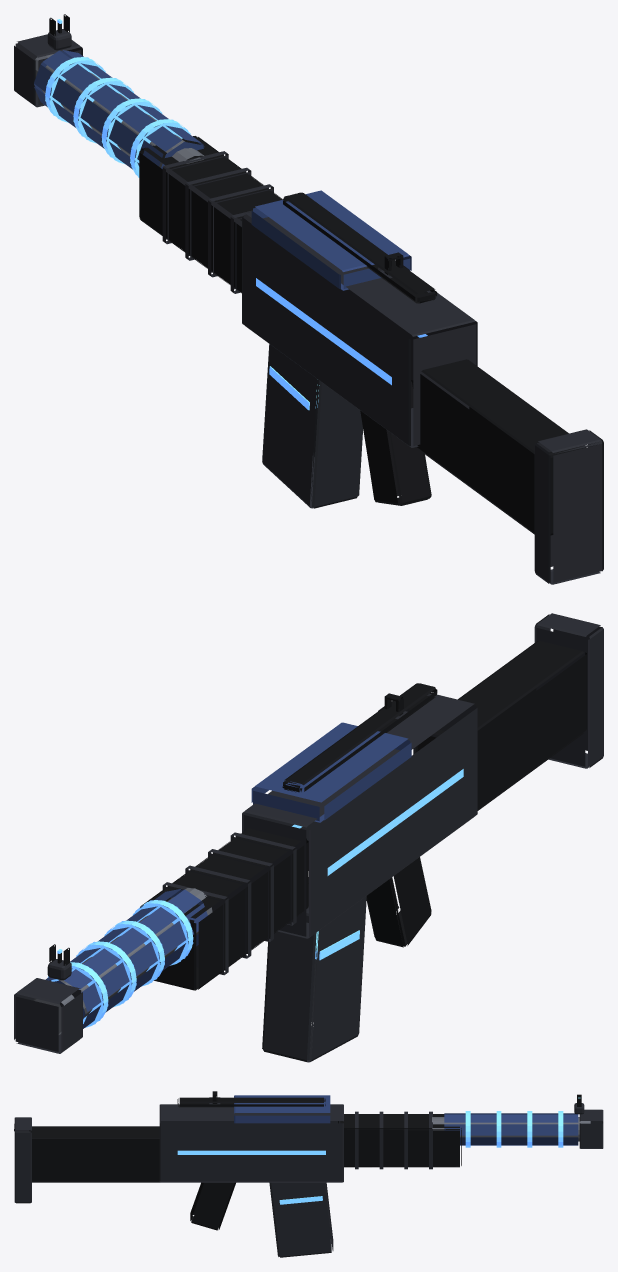
Rendered from autosg_lod.glb.
The picture shows the model from 3 angles, top to bottom: view 1: azimuth 30°, elevation 25°; view 2: azimuth 150°, elevation 25°; view 3: azimuth 270°, elevation 25°; orthographic projection. The views are drawn at different scales.
Parts seen in each view (by area): view 1: Body, Magazine, IronSights; view 2: Body, Magazine, IronSights; view 3: Body, Magazine, IronSights.
Part boxes in pixels (<box>): Body: <box>14,34,603,584</box>; Magazine: <box>262,344,362,508</box>; IronSights: <box>47,14,409,278</box>; Body: <box>14,613,603,1053</box>; Magazine: <box>262,883,366,1062</box>; IronSights: <box>47,693,409,980</box>; Body: <box>14,1095,603,1230</box>; Magazine: <box>269,1182,333,1257</box>; IronSights: <box>209,1091,584,1114</box>.
Bounding box in the file's own units: 0.074 × 0.284 × 0.955.
